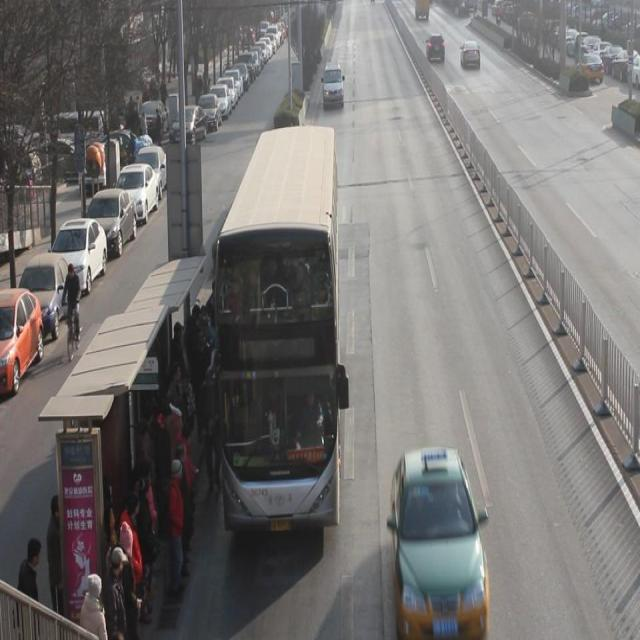car: (392, 450, 490, 630), (426, 32, 446, 64), (461, 40, 481, 69)
truck: (323, 62, 345, 112)
van: (216, 126, 340, 522)
